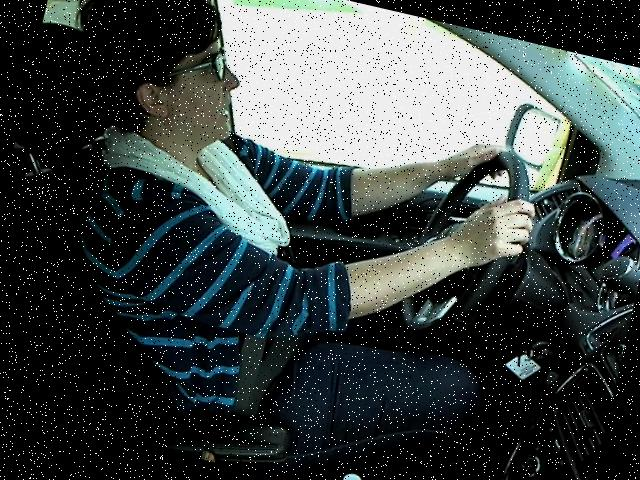c0 - Safe Driving: (9, 0, 573, 409)
